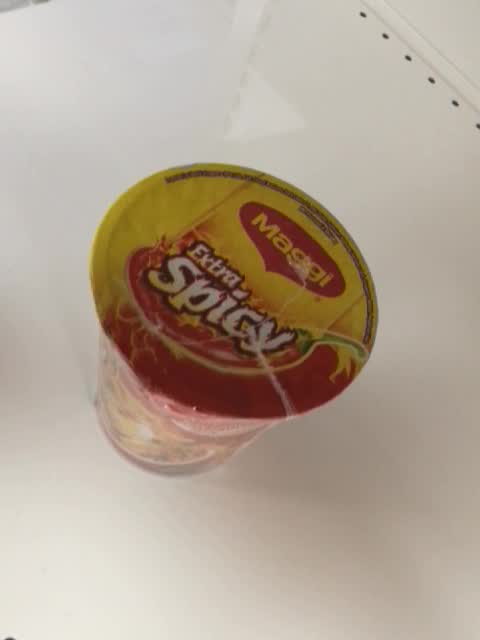maggi: (89, 162, 378, 479)
